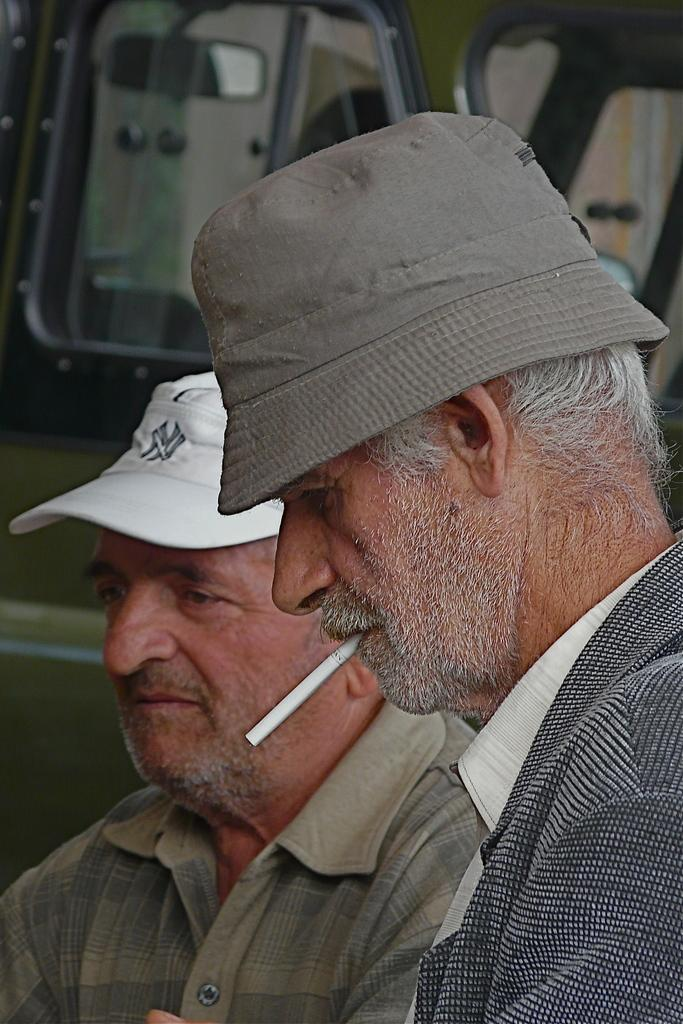Hat: (190, 107, 672, 513), (14, 370, 288, 552)
